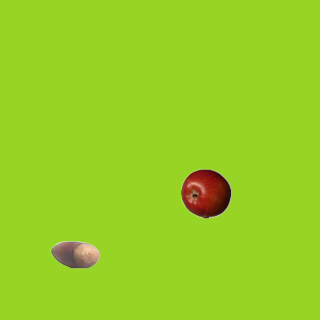Apple Braeburn: (180, 168, 230, 218)
Hazelnut: (49, 229, 99, 279)
